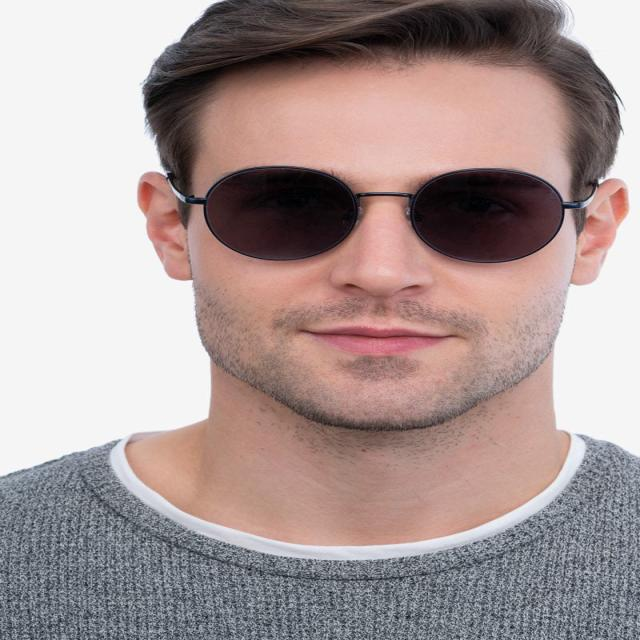2_gafas: (164, 164, 599, 264)
